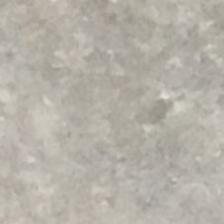Non_Crack: (29, 23, 198, 183)
